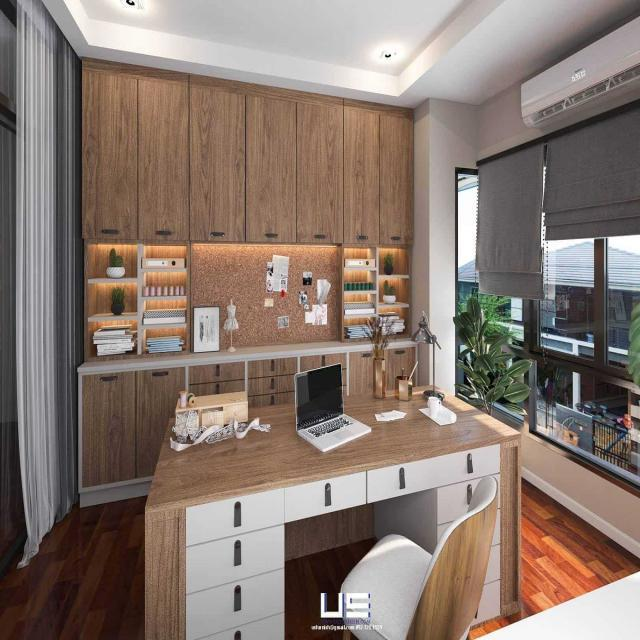table: (138, 380, 517, 543)
